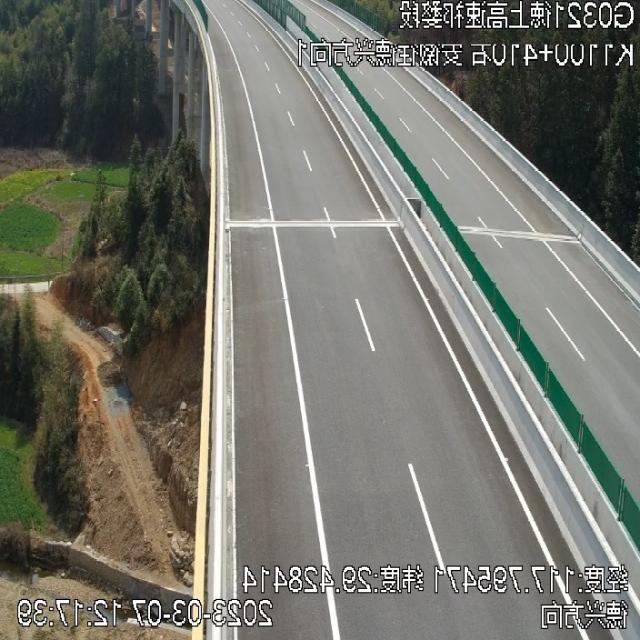point: (182, 0, 278, 88)
